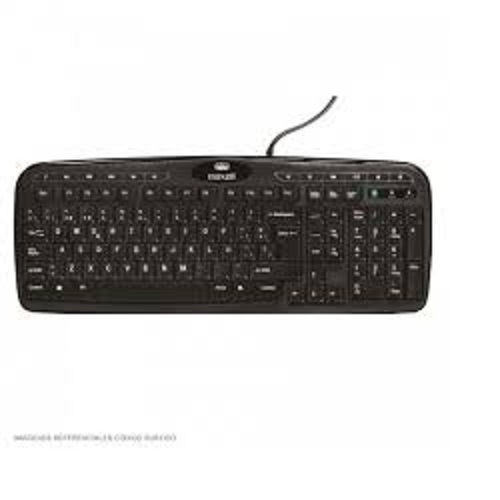Teclado: (8, 149, 440, 321)
